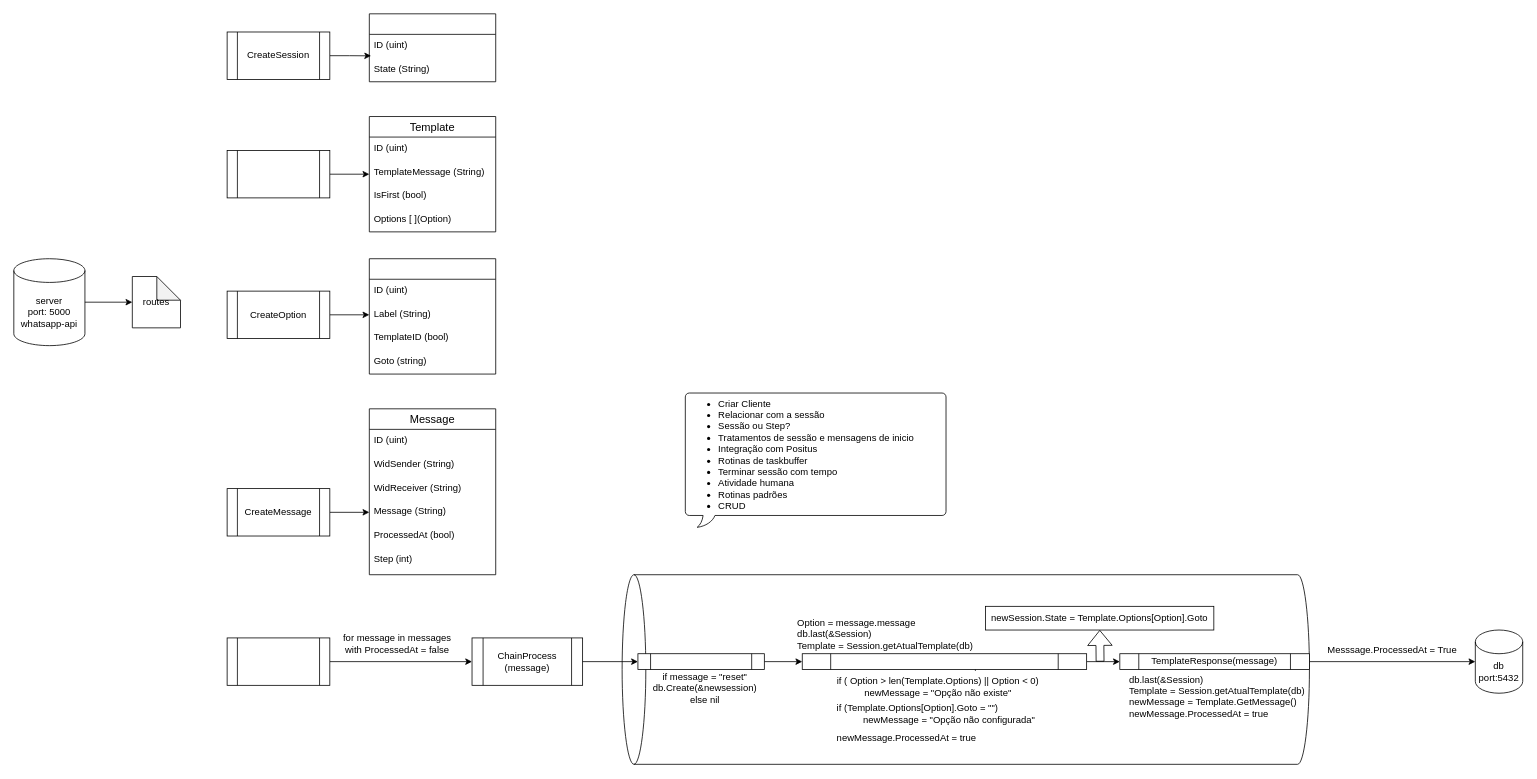
Some shapes in this 1537 by 779 pixel diagram are drawn without their labels. Each missing label, with the box of its shape:
ChangeStateBasedOnSelectedOption(message): (801, 653, 1087, 670)
CreateTemplate: (226, 150, 330, 198)
Option: (369, 258, 496, 374)
ProcessMessages: (226, 637, 330, 685)
ResetState(message): (637, 653, 764, 670)
Session: (369, 13, 496, 82)
